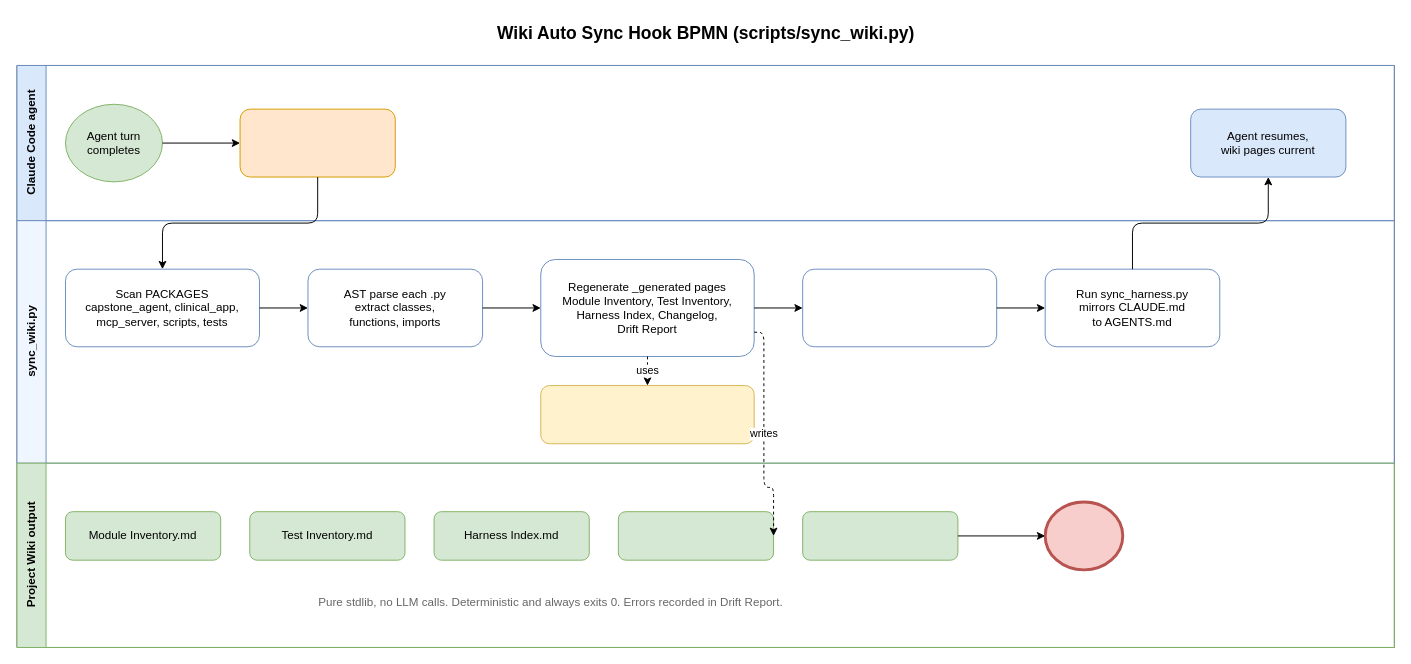
Image size: 1411x664. Some labels were removed from this diagram. The shapes that lost their labels are listed below. From the top down, each one's centre as x and y in pixels, then its label:
point (317, 142): Stop hook fires sync_wiki.py
point (899, 307): Rewrite AUTO blocks in Module Dependency Graph, CLAUDE.md, MEMORY.md
point (647, 414): write_if_changed only writes when non volatile content differs (idempotent)
point (695, 535): Changelog.md
point (880, 535): Drift Report.md
point (1083, 535): Sync complete
